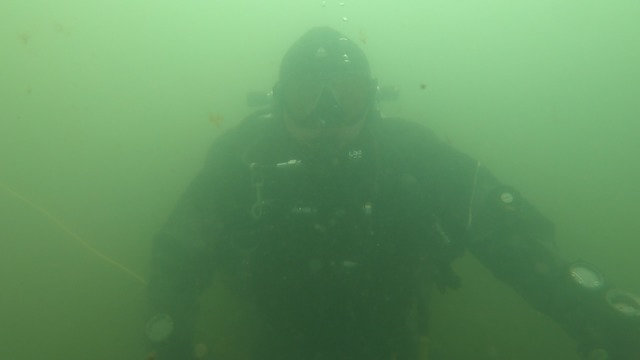Diver: (142, 12, 623, 350)
Head: (263, 21, 388, 184)
